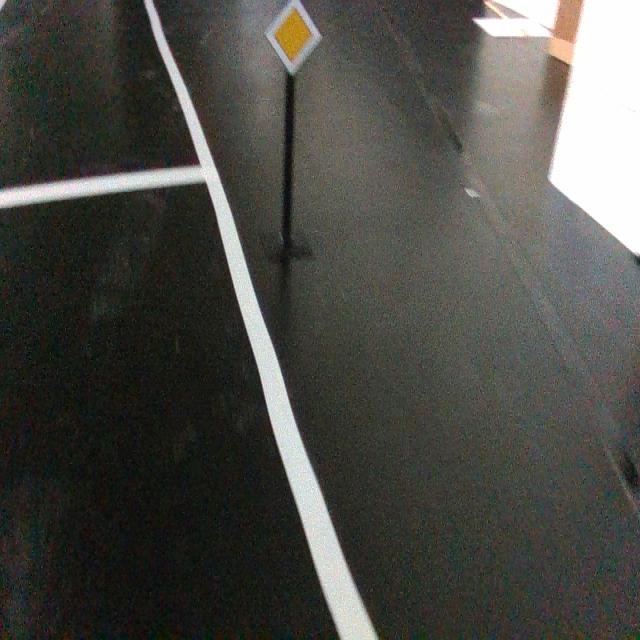priority-sign: (263, 0, 323, 76)
